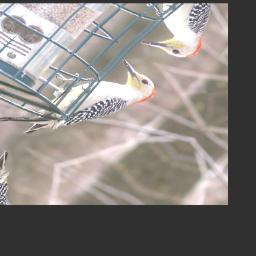Woodpecker: (0, 33, 170, 170)
